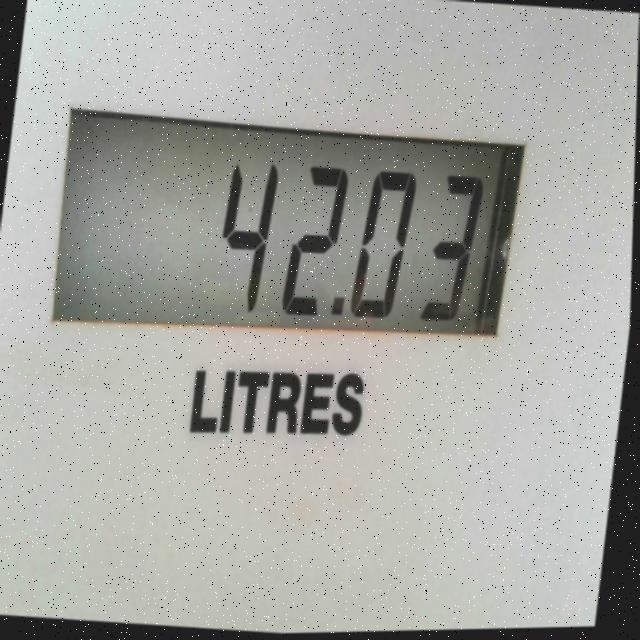.: (323, 292, 353, 338)
0: (352, 168, 421, 329)
2: (284, 165, 346, 322)
3: (427, 177, 484, 317)
4: (217, 163, 279, 318)
